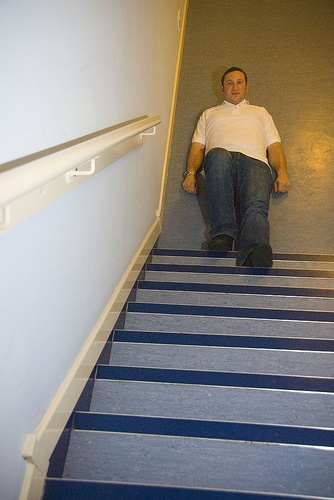stairs_up: (68, 241, 332, 500)
